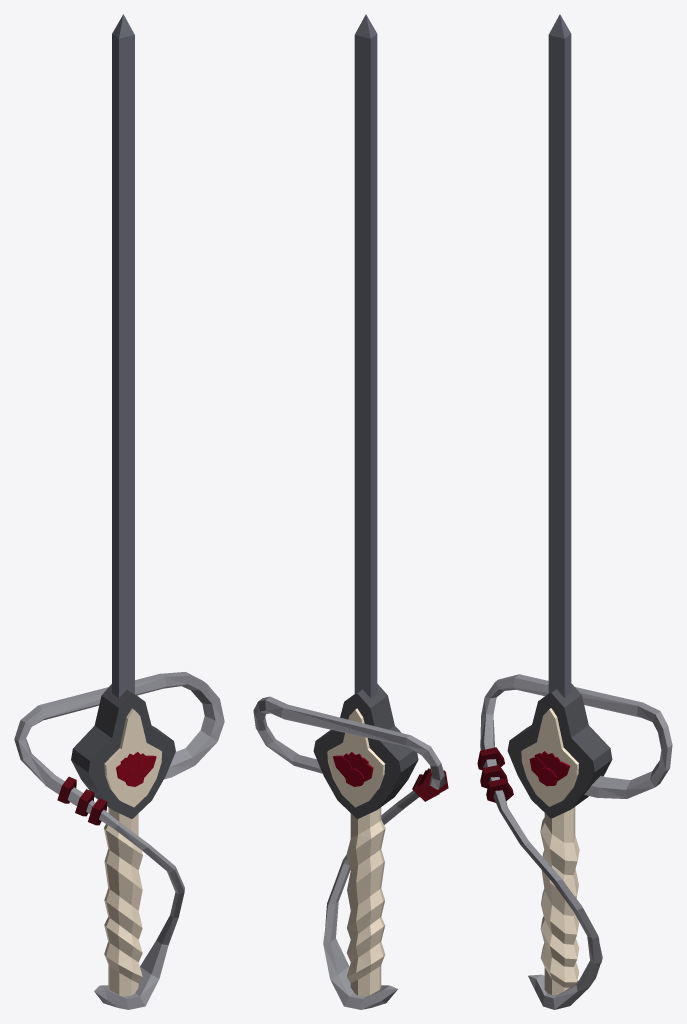
File: _sword_12.fbx
The picture shows the model from 3 angles, left to right: view 1: azimuth 30°, elevation 25°; view 2: azimuth 150°, elevation 25°; view 3: azimuth 330°, elevation 25°; orthographic projection.
Parts seen in each view (by area): view 1: sword_12; view 2: sword_12; view 3: sword_12.
Part boxes in pixels (x1,y1,x2,y2): sword_12: (14,14,224,1009); sword_12: (253,14,448,1009); sword_12: (477,14,672,1009).
Bounding box in the file's own units: 23.08 × 113 × 11.33.
